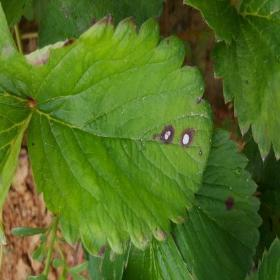Leaf Spot: (24, 13, 214, 258), (170, 127, 264, 279), (208, 0, 279, 165), (0, 39, 78, 97), (245, 236, 279, 279), (0, 0, 36, 30)
